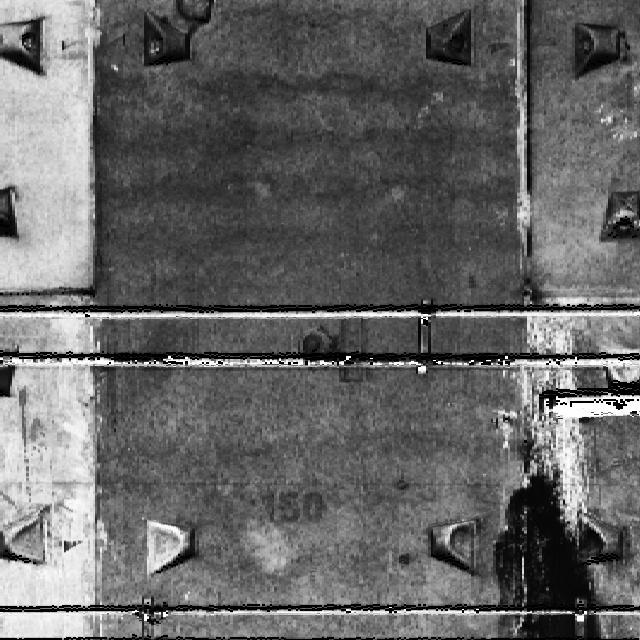leakage: (483, 315, 603, 639)
